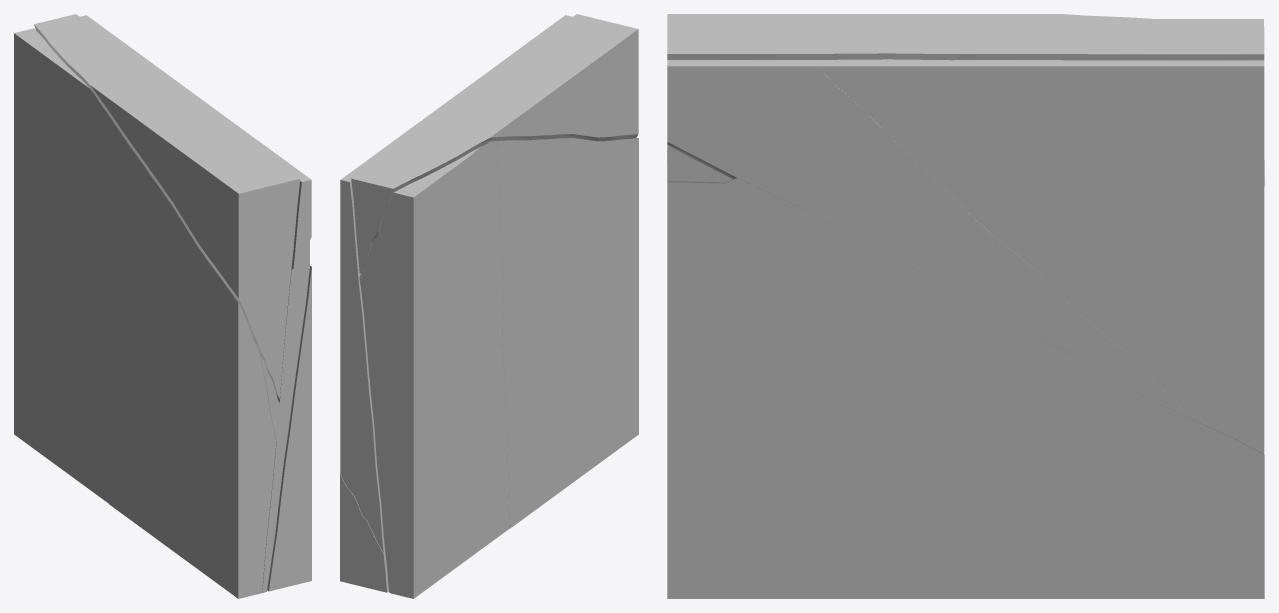
The model's file is BreakBlock.fbx.
3 renders of one model, left to right at view 1: azimuth 30°, elevation 25°; view 2: azimuth 150°, elevation 25°; view 3: azimuth 270°, elevation 25°, orthographic. The views are drawn at different scales.
Parts seen in each view (by area): view 1: shard17; view 2: shard17; view 3: shard17.
Part boxes in pixels (bbox=[...]): shard17: bbox=[14, 14, 311, 598]; shard17: bbox=[340, 14, 638, 598]; shard17: bbox=[667, 14, 1264, 598].
Size of the model in its own units: 4.51 by 23.72 by 23.9.
